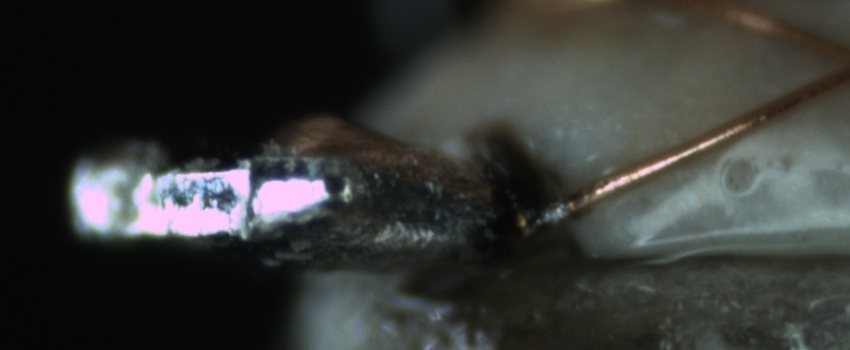TS: (523, 199, 572, 236)
